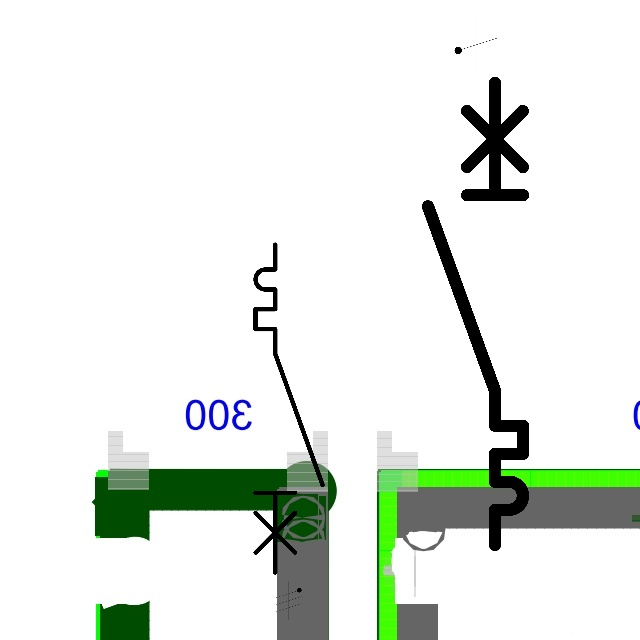interruptor_termomagnetico: (416, 70, 535, 556), (247, 236, 331, 581)
